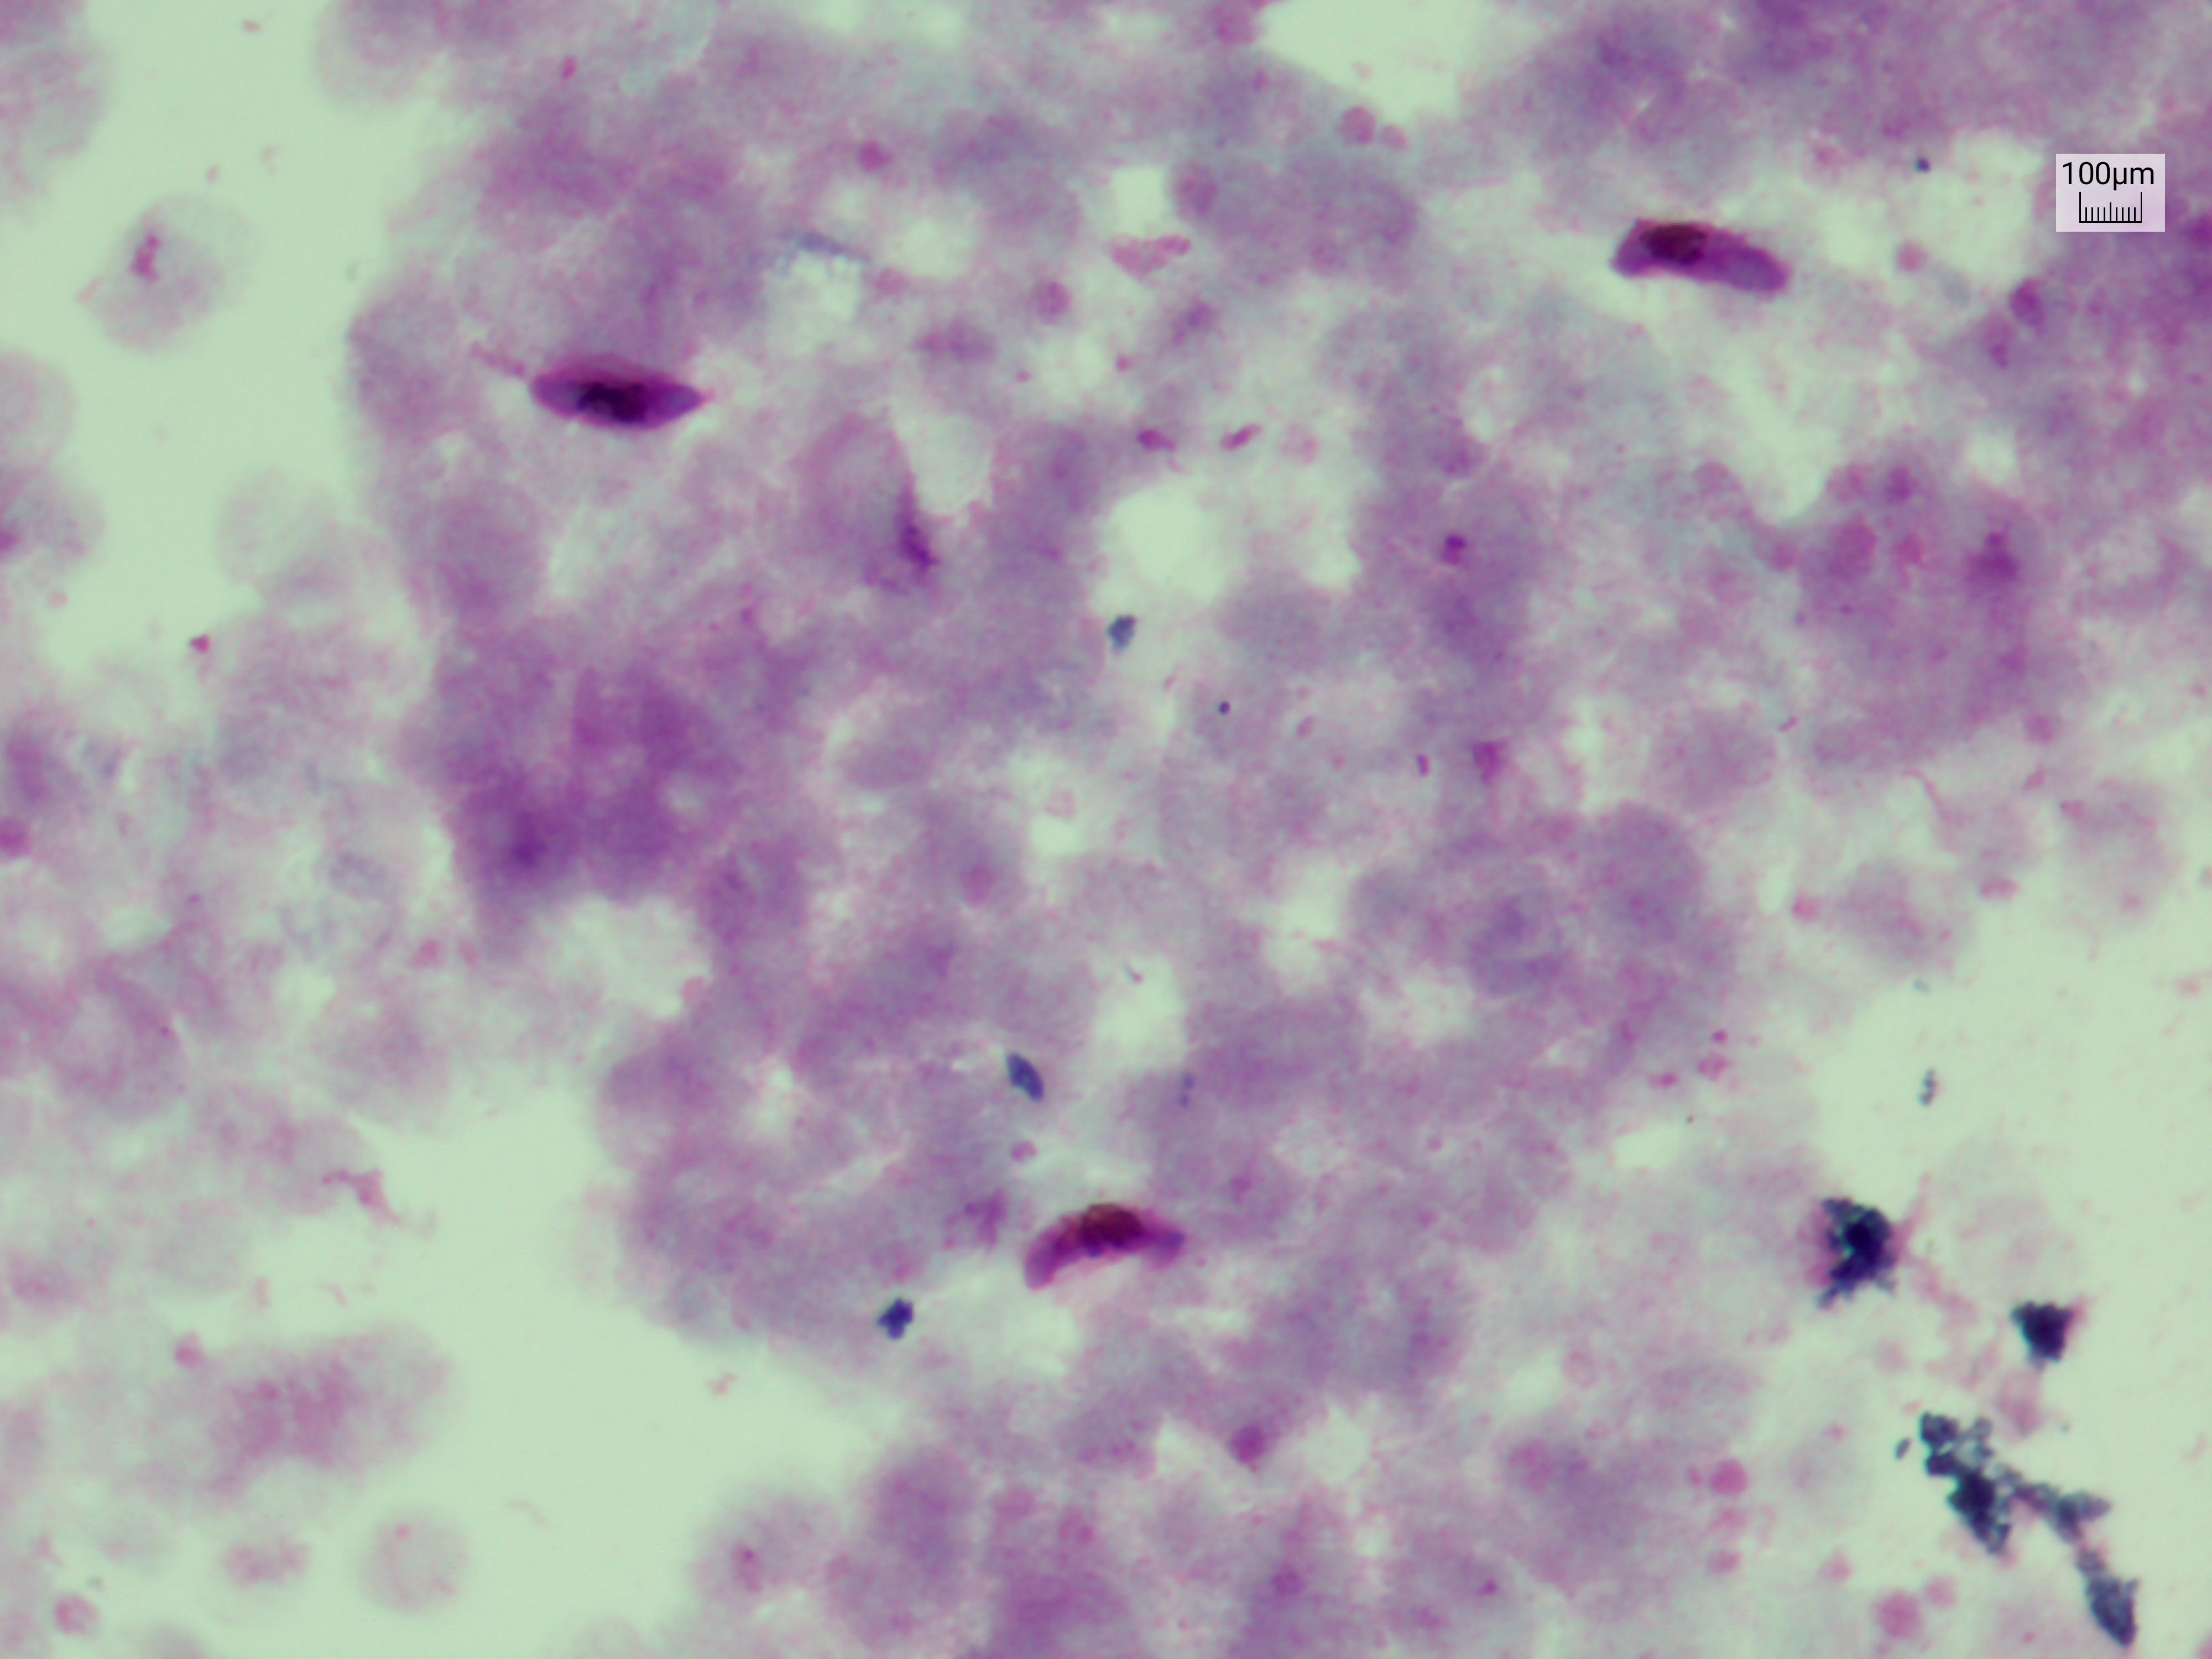p.falciparum: (475, 321, 735, 444), (1576, 197, 1810, 314), (1001, 1176, 1202, 1293)
